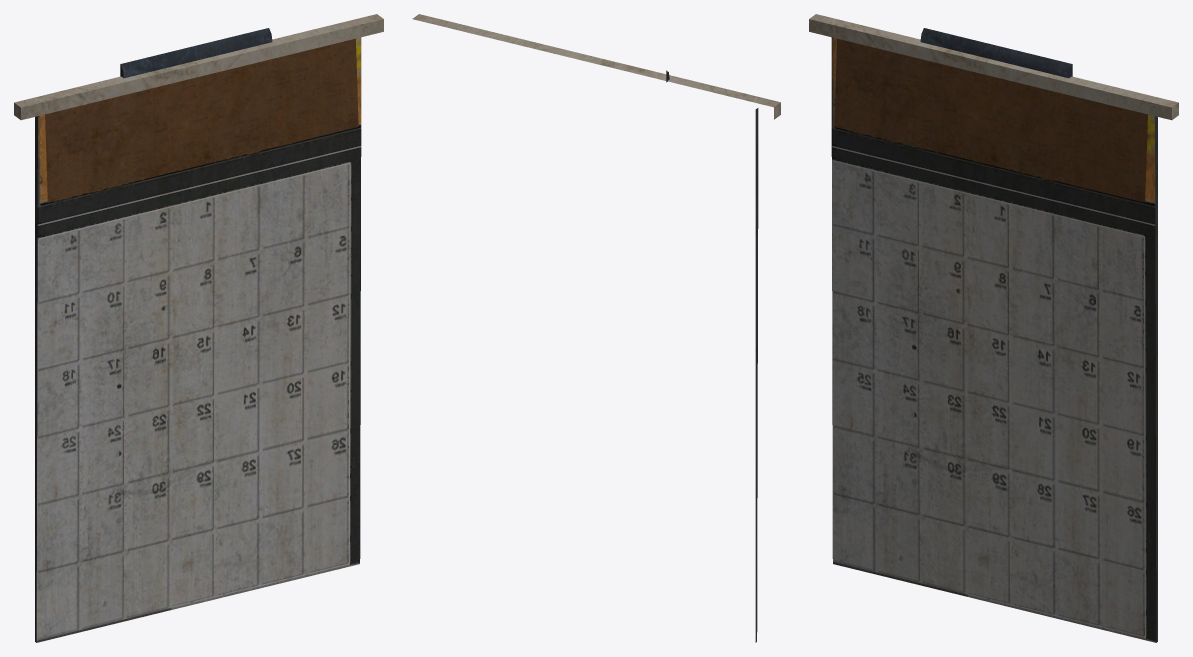
The model's file is Prop_Gl01.glb.
3 renders of one model, left to right at view 1: azimuth 30°, elevation 25°; view 2: azimuth 150°, elevation 25°; view 3: azimuth 330°, elevation 25°, orthographic.
Visible parts, largest first — view 1: xiutz_gl01; view 2: xiutz_gl01; view 3: xiutz_gl01.
Boxes of the visible parts, left/top/right/bottom form: xiutz_gl01: left=14, top=14, right=383, bottom=642; xiutz_gl01: left=412, top=14, right=780, bottom=642; xiutz_gl01: left=809, top=14, right=1178, bottom=642.
Bounding box in the file's own units: 1.02 × 1.5 × 0.0417.
1 material, 1 textured.
